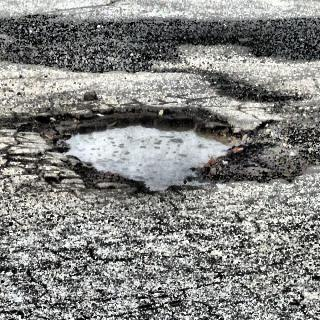pothole: (51, 105, 257, 192)
